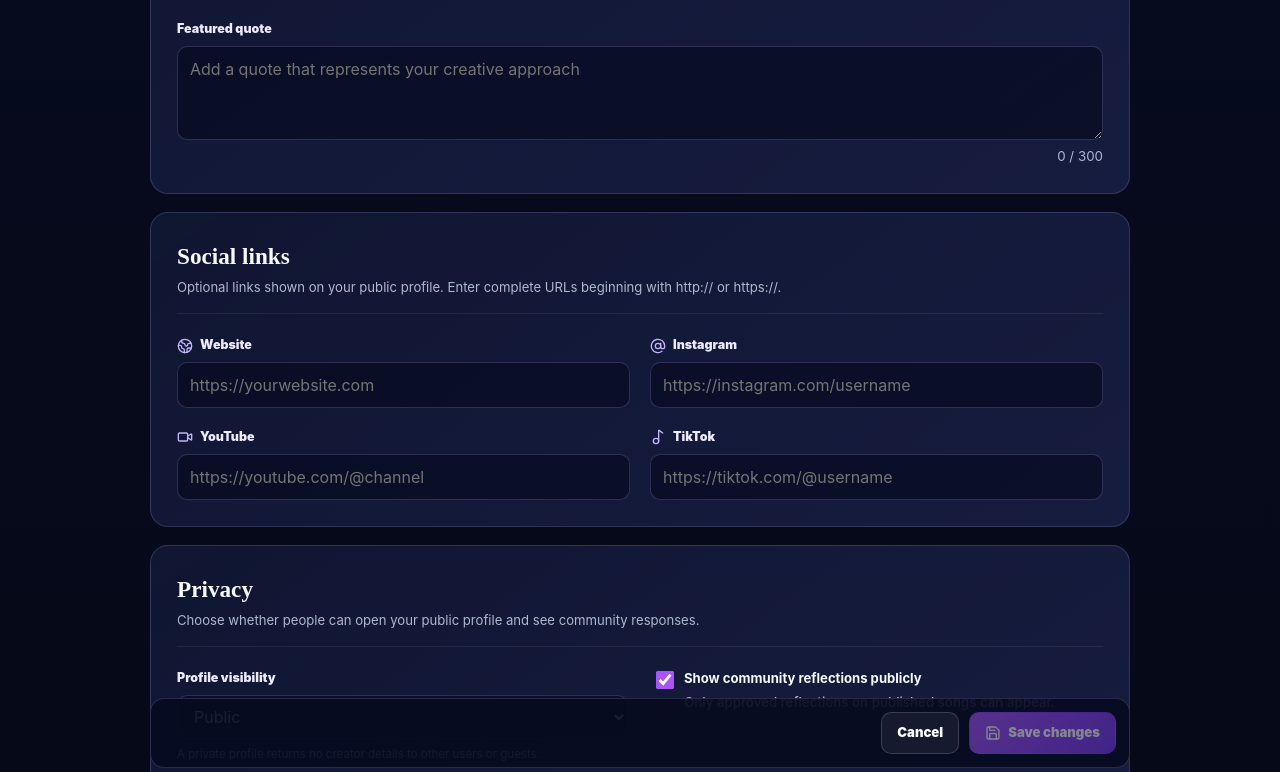
Test case: creator profile settings › validates social URLs before sending an update
(page scrolled)
Type "javascript:alert(1)" into the field labelled "Website" at (404, 385), box [177,362,630,408]
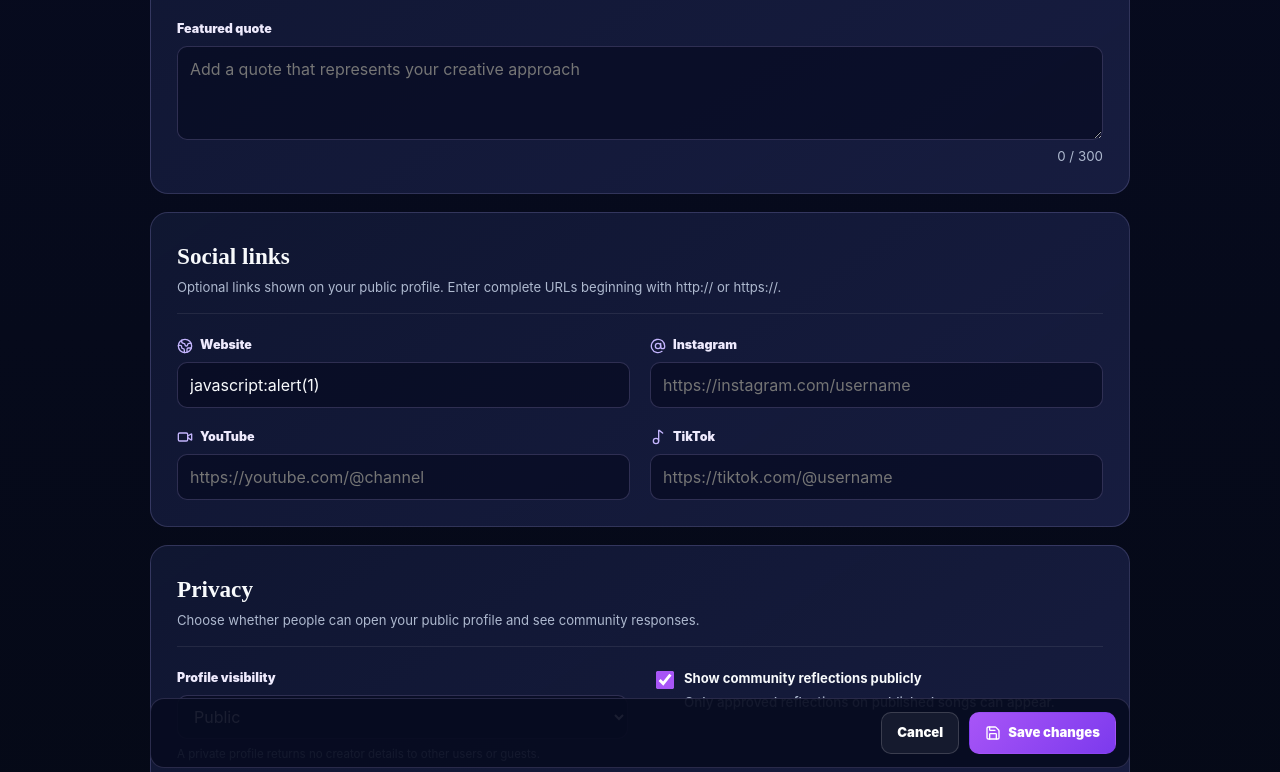
Click the button "Save changes" at (1043, 733), box [969,712,1116,754]
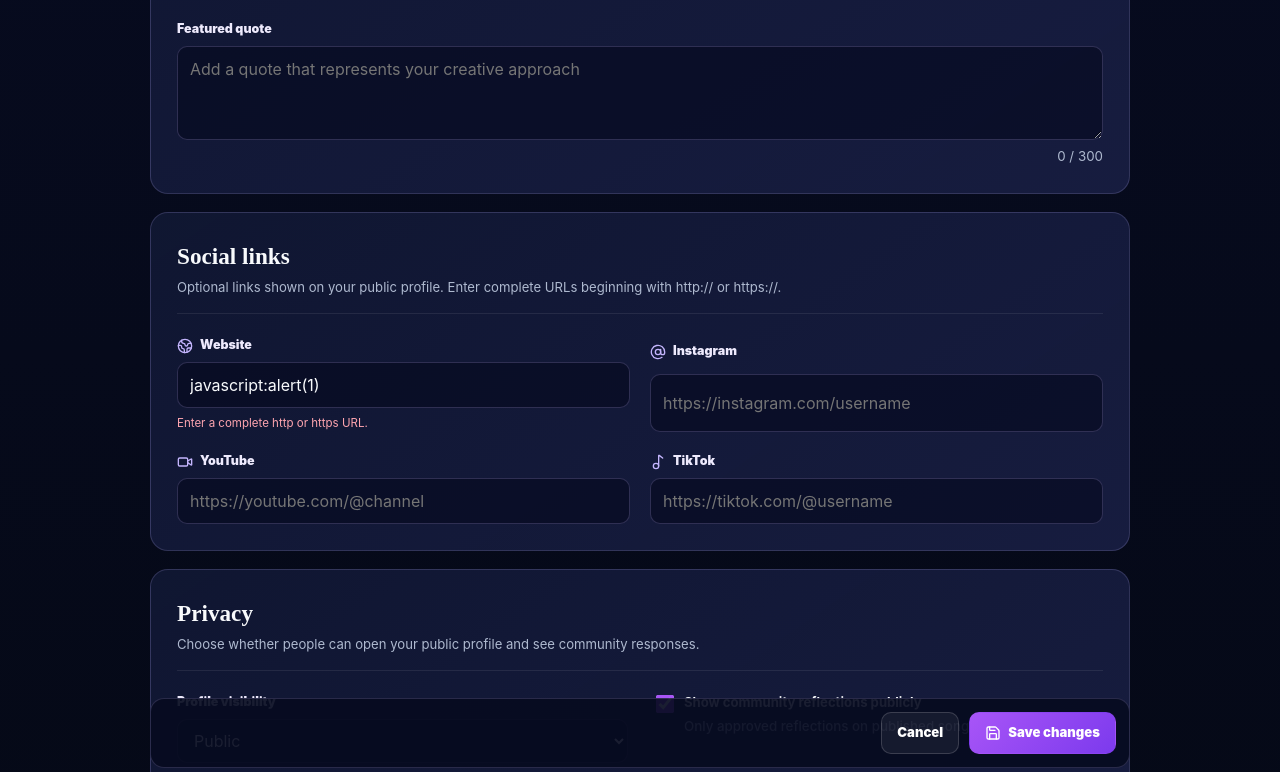
Expected: the text "Enter a complete http or https URL." is shown, [177,416,368,430]
